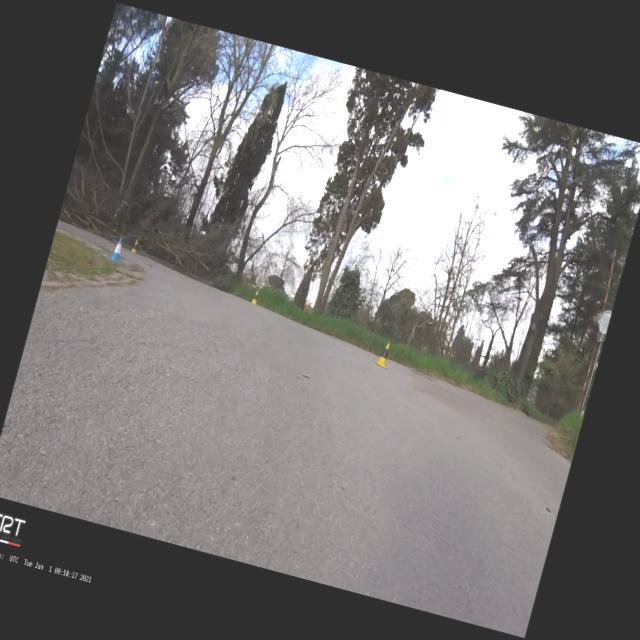blue_cone: (109, 234, 125, 262)
yellow_cone: (372, 340, 393, 369), (250, 290, 260, 304), (130, 238, 139, 252)
